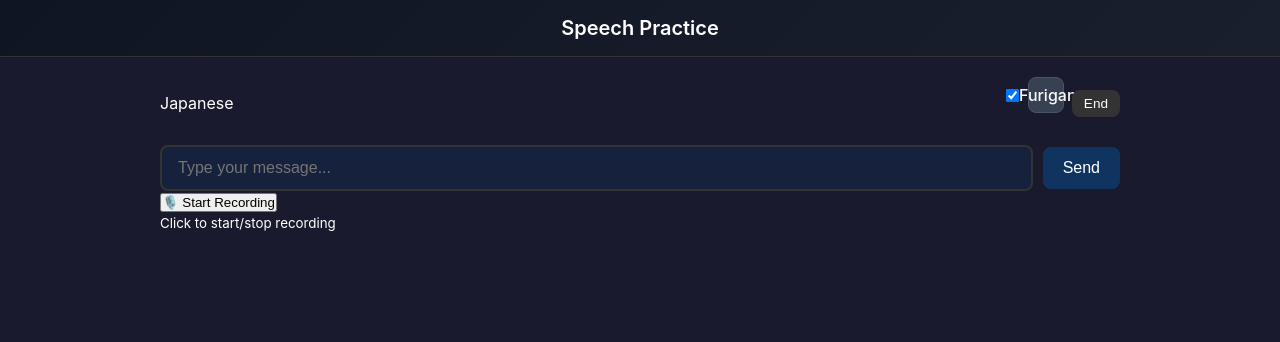
ChatSession › sending messages › should send a message via the Send button and show the assistant echo
Type "元気ですか" into the field with placeholder "Type your message...".
click(596, 168); type("元気ですか")  # box top-left (160, 145), bottom-right (1033, 191)
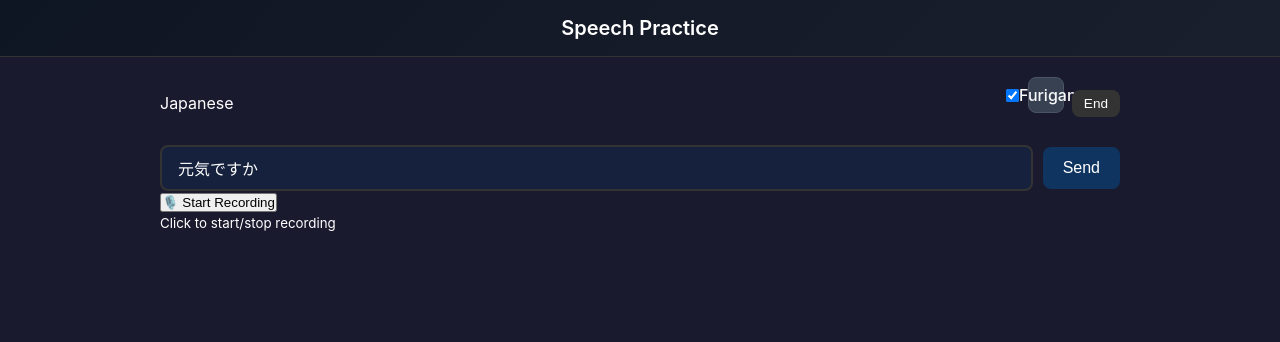
Click the button "Send".
click(1081, 168)  # box top-left (1043, 147), bottom-right (1120, 189)
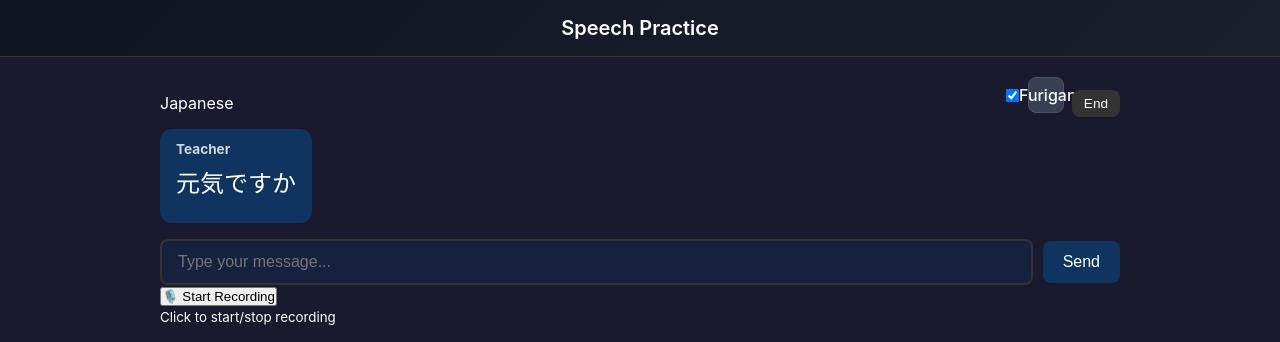
Expected: the text "元気ですか" is shown, top-left (176, 169), bottom-right (296, 198)
Expected: the field with placeholder "Type your message..." is empty, top-left (160, 239), bottom-right (1033, 285)
